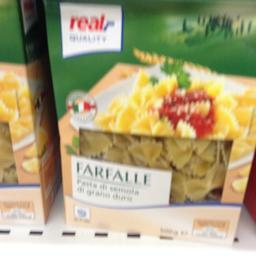pasta: (44, 0, 254, 242)
